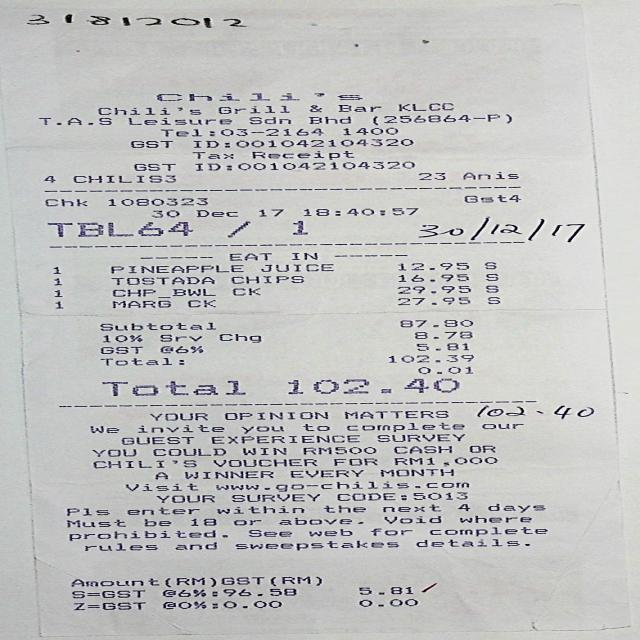text: (215, 481, 468, 492), (286, 378, 458, 394), (42, 221, 192, 237), (100, 380, 244, 396), (192, 161, 414, 171), (192, 138, 412, 148), (153, 92, 367, 102), (234, 540, 398, 551), (67, 530, 226, 541), (371, 114, 510, 125), (210, 435, 358, 444), (110, 264, 242, 274), (159, 128, 322, 136), (161, 588, 295, 597), (161, 600, 280, 610), (346, 422, 463, 432), (429, 526, 546, 536), (302, 208, 419, 217), (110, 288, 214, 298), (392, 456, 496, 466), (99, 322, 214, 331), (251, 150, 353, 160), (341, 410, 448, 419), (223, 412, 330, 421), (92, 459, 195, 468), (110, 276, 212, 285), (415, 539, 529, 547), (107, 197, 206, 206), (96, 107, 200, 115), (127, 117, 231, 125), (212, 459, 316, 467), (72, 175, 175, 183), (182, 470, 272, 479), (216, 505, 303, 514), (396, 296, 472, 306), (70, 578, 159, 586), (230, 494, 318, 502), (376, 434, 463, 442), (136, 424, 222, 432), (98, 357, 174, 366), (388, 354, 472, 362), (278, 517, 362, 525), (395, 285, 469, 294), (146, 412, 210, 422), (217, 105, 288, 114), (121, 436, 192, 445), (288, 470, 363, 478), (36, 117, 110, 125), (301, 446, 375, 454), (70, 590, 144, 598), (259, 264, 332, 272), (399, 320, 472, 328), (151, 448, 224, 456), (379, 468, 452, 476), (83, 543, 156, 551), (486, 503, 544, 513), (230, 276, 302, 284), (124, 483, 196, 491), (72, 602, 144, 610), (127, 507, 198, 515), (459, 515, 530, 523), (397, 262, 467, 270), (397, 274, 467, 282), (337, 493, 405, 501), (271, 575, 320, 586), (391, 445, 450, 454), (65, 519, 124, 528), (357, 598, 416, 607), (409, 492, 466, 501), (383, 515, 440, 524), (163, 577, 214, 587), (380, 504, 440, 512), (154, 495, 213, 503), (112, 300, 170, 308), (413, 331, 471, 339), (220, 576, 265, 586), (397, 103, 453, 111), (416, 366, 472, 374), (341, 127, 396, 135), (462, 172, 517, 180), (192, 209, 240, 218), (358, 586, 412, 594), (415, 343, 467, 351), (463, 195, 520, 202), (247, 116, 289, 125), (219, 333, 260, 342), (306, 116, 350, 124), (98, 346, 142, 354), (240, 448, 284, 456), (332, 458, 376, 466), (337, 104, 380, 112), (239, 426, 282, 434), (92, 449, 135, 457), (308, 528, 351, 536), (248, 529, 291, 537), (190, 151, 232, 159), (228, 252, 270, 260), (159, 346, 201, 354), (66, 508, 108, 516), (369, 528, 411, 536), (173, 542, 215, 550), (133, 163, 174, 171), (323, 505, 364, 513), (160, 334, 200, 342), (100, 334, 140, 342), (287, 220, 308, 235), (129, 141, 172, 148), (44, 199, 86, 206), (150, 209, 178, 218), (255, 208, 282, 217), (416, 172, 444, 180), (230, 288, 258, 296), (87, 426, 118, 433), (187, 300, 214, 308), (301, 424, 328, 432), (290, 252, 316, 260), (481, 424, 522, 429), (190, 518, 215, 526), (469, 445, 493, 453), (144, 519, 169, 526), (232, 520, 260, 526), (482, 284, 498, 293), (483, 296, 499, 305), (307, 104, 320, 112), (456, 504, 469, 512), (484, 273, 496, 281), (154, 472, 166, 479), (43, 175, 54, 182), (484, 262, 495, 269), (53, 301, 62, 309), (51, 266, 59, 274), (51, 278, 60, 285), (54, 289, 61, 297)
